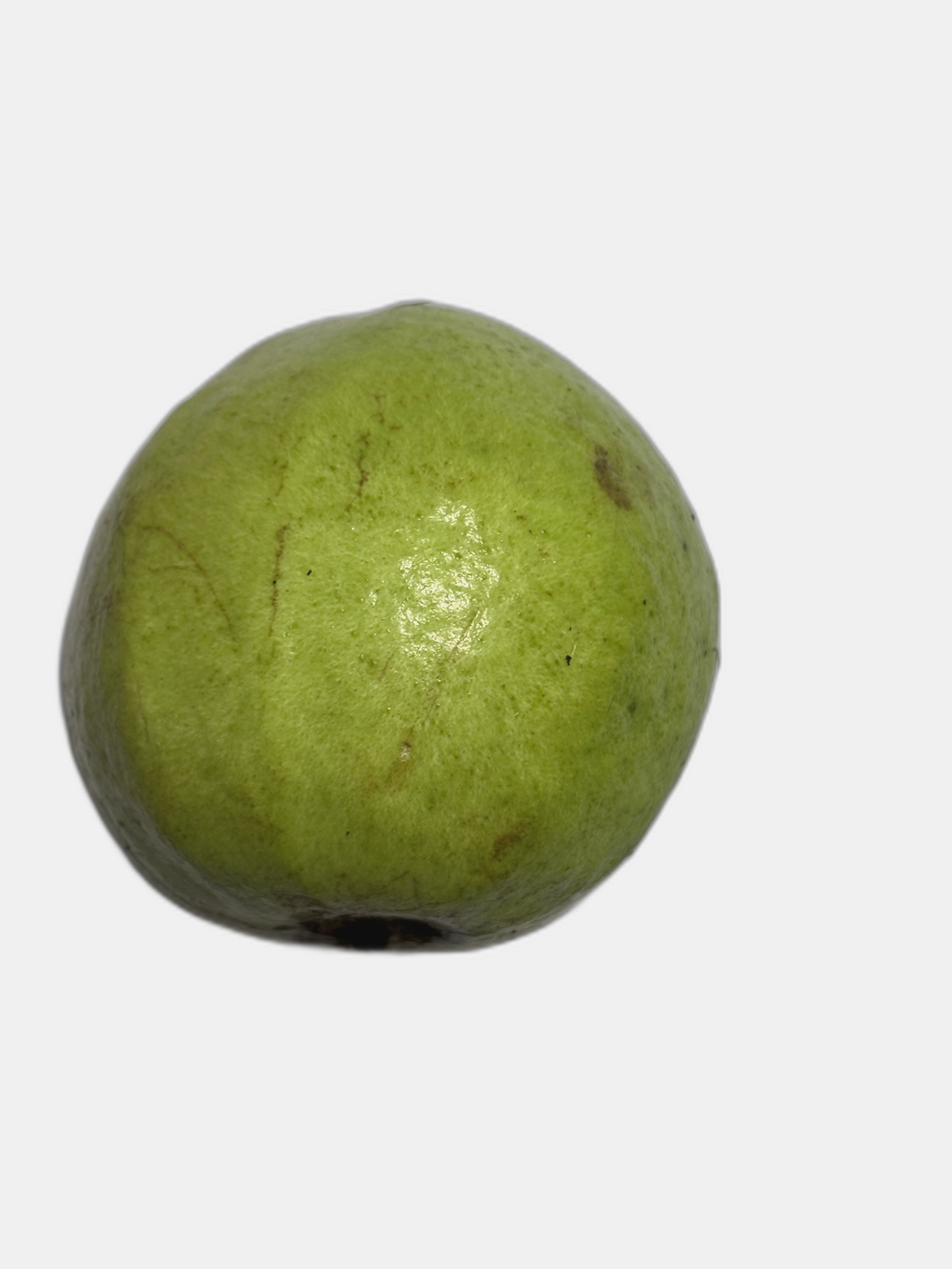guava: (2, 285, 853, 1063)
